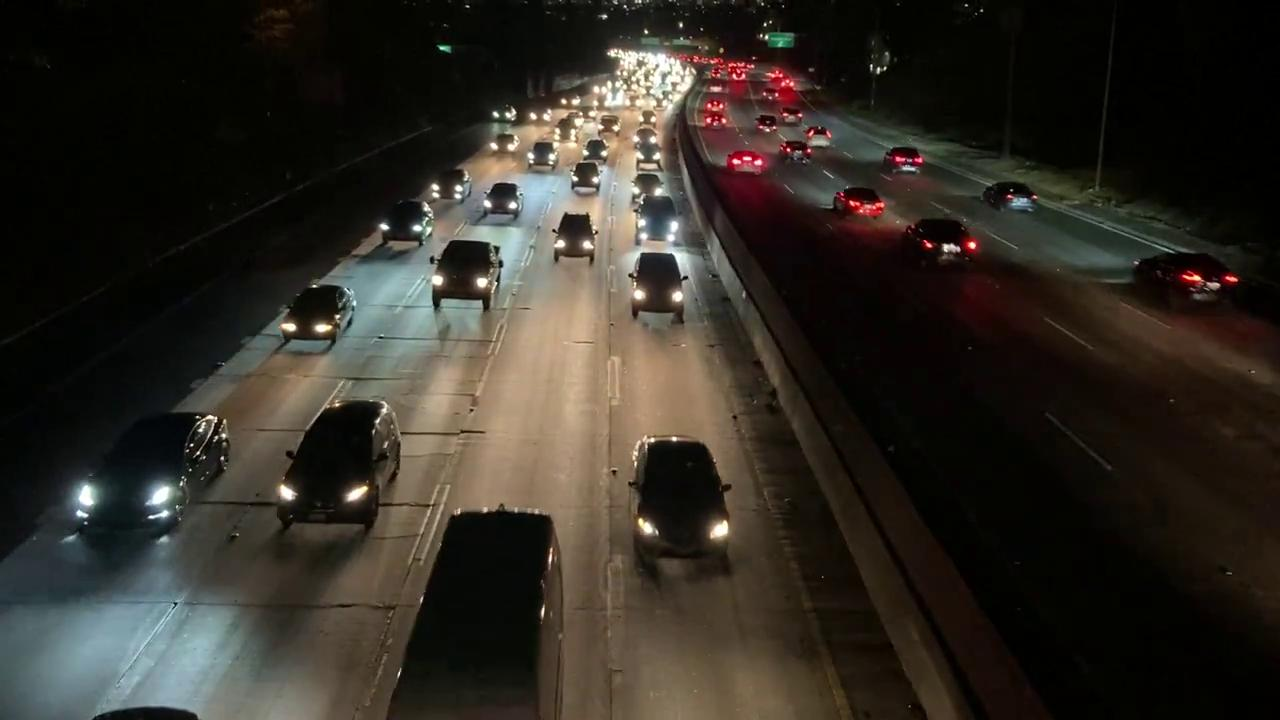car: (374, 500, 580, 712), (52, 398, 228, 550), (266, 396, 404, 532), (620, 426, 736, 568), (1136, 252, 1234, 306), (623, 251, 694, 321), (430, 239, 503, 306), (277, 283, 356, 344), (904, 220, 978, 271), (628, 193, 683, 249), (378, 196, 429, 254), (548, 209, 601, 264), (478, 177, 525, 220), (429, 168, 479, 204), (983, 182, 1041, 213), (831, 187, 884, 218), (878, 147, 925, 175), (567, 162, 602, 196), (728, 146, 767, 176), (525, 140, 558, 170)
